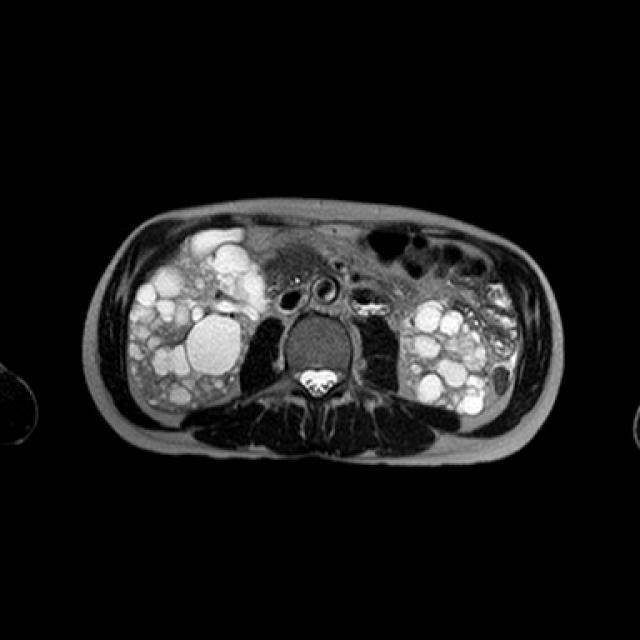sag: (125, 242, 278, 414)
sol: (395, 297, 492, 418)
